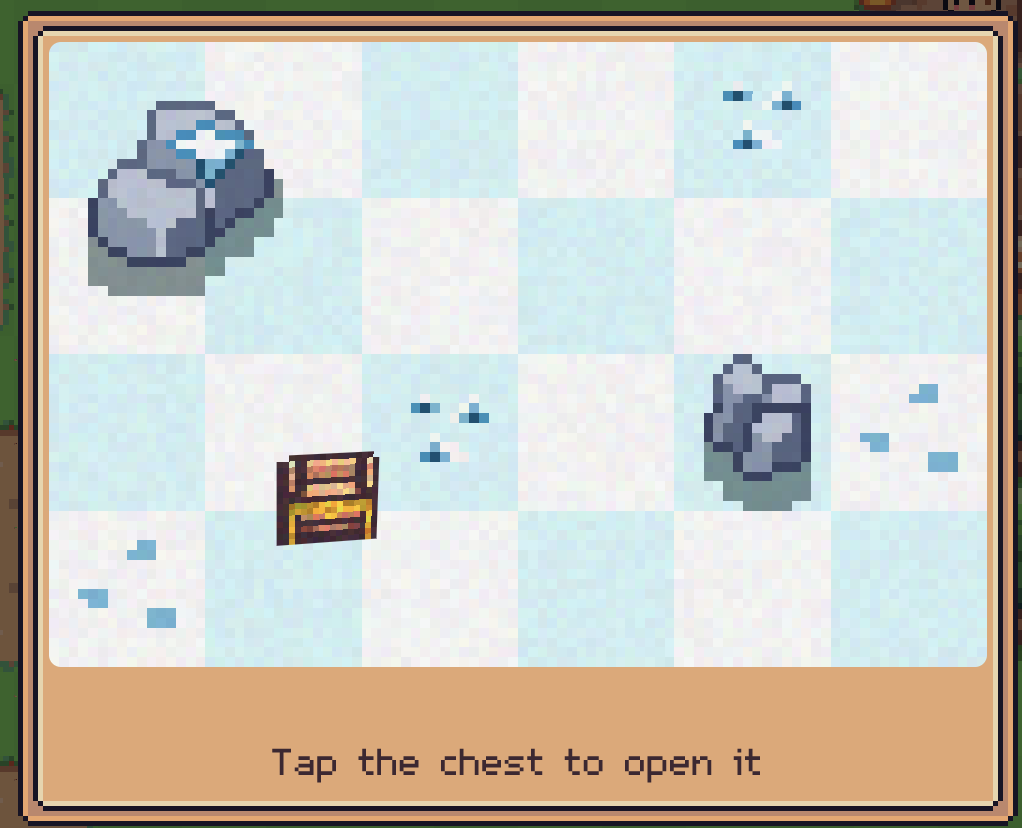capcha_chest: (277, 451, 382, 548)
